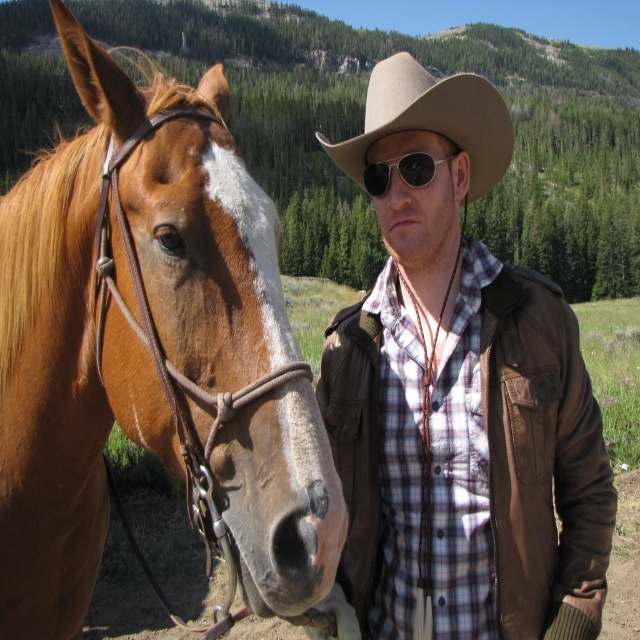Horse: (0, 0, 349, 640)
